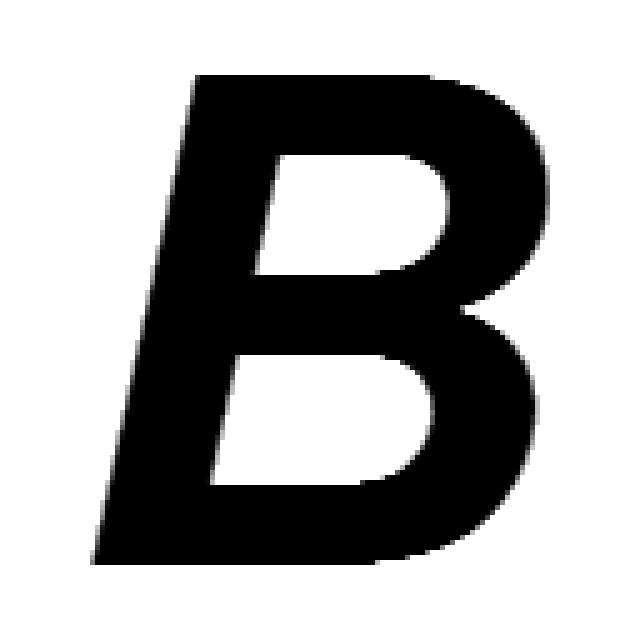B: (90, 75, 550, 570)
